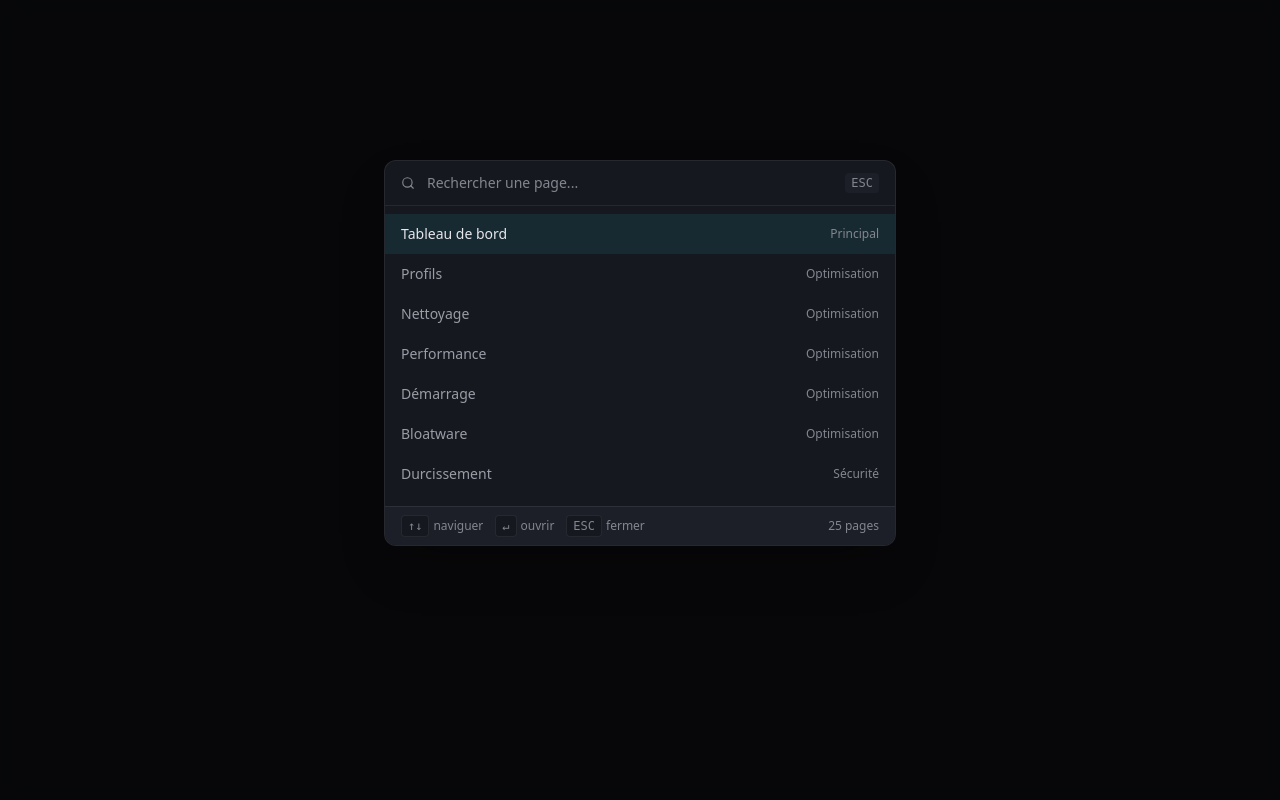
Test: CommandPalette recherche › trouve Mémoire avec « mem » (accent ignoré)
The image size is (1280, 800).
In the dropdown labelled "Rechercher une page": [630, 183] box [427,173,833,193], type "mem"
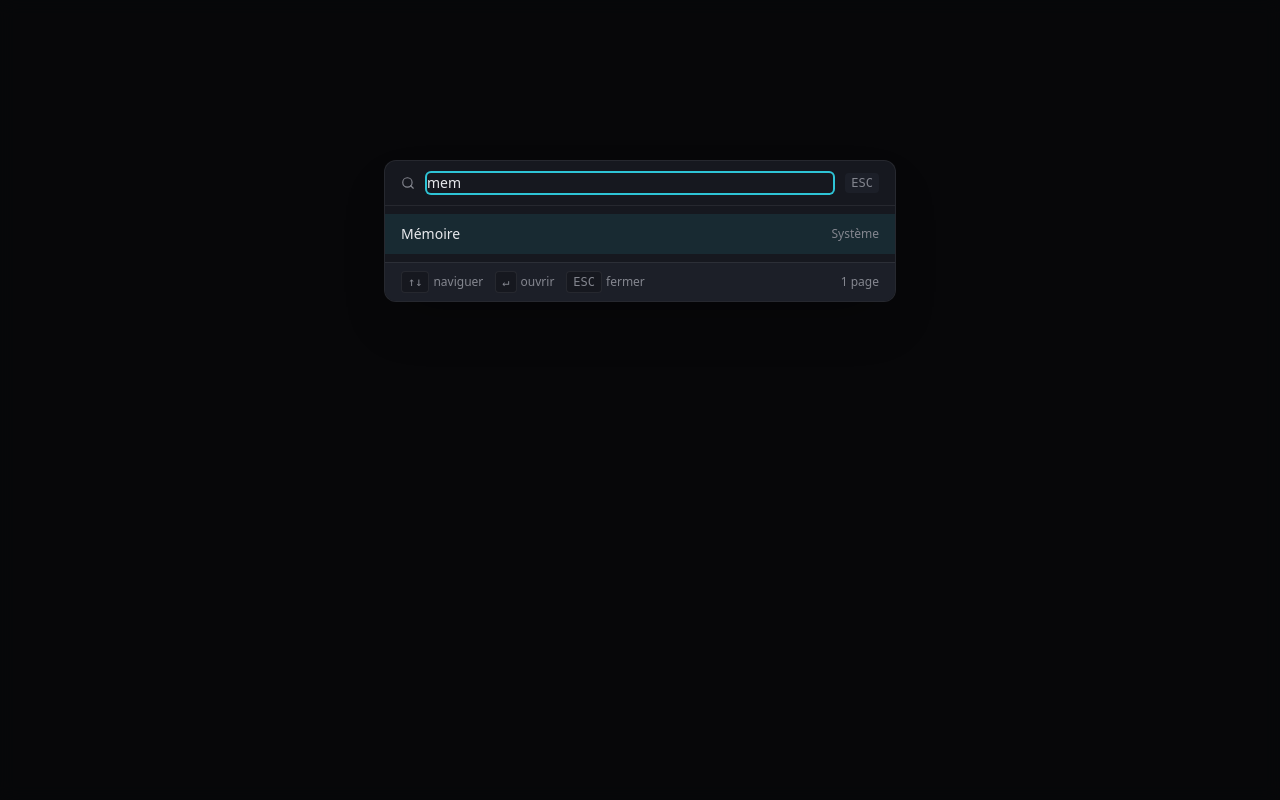
Expected: the option "Mémoire Système" is shown, [385,214,895,254]
